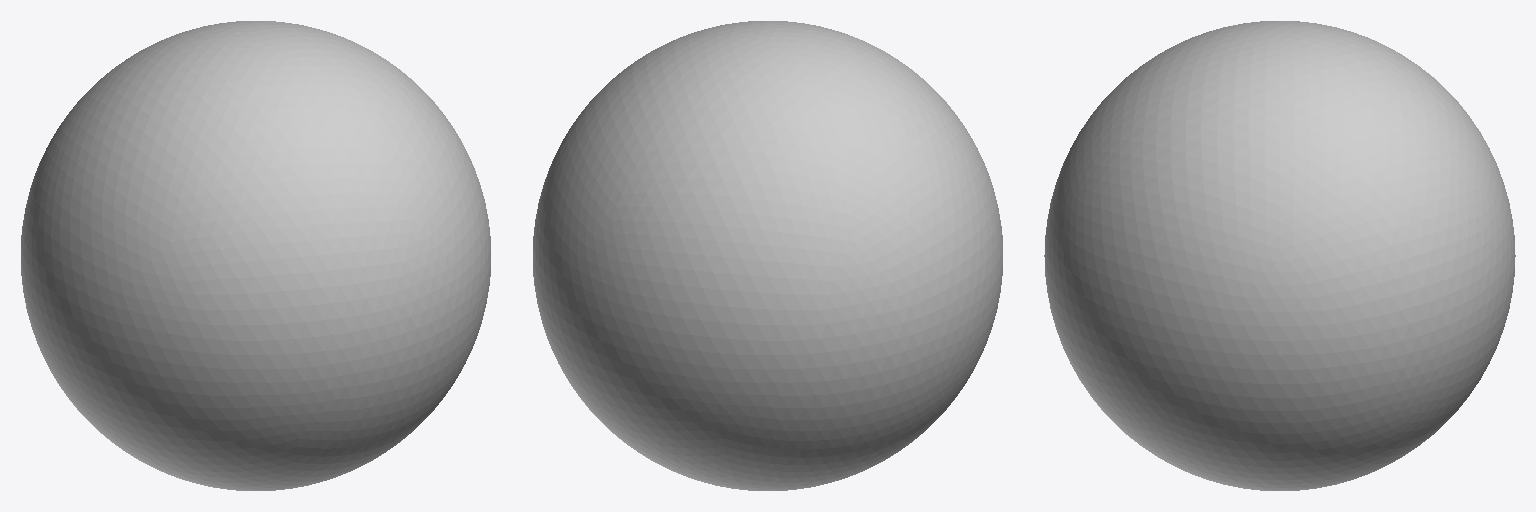
The model's file is ico.obj.
3 views of the same model, side by side, from view 1: azimuth 30°, elevation 25°; view 2: azimuth 150°, elevation 25°; view 3: azimuth 270°, elevation 25° (orthographic).
Visible parts, largest first — view 1: Icosphere; view 2: Icosphere; view 3: Icosphere.
Boxes of the visible parts, <box> form: Icosphere: <box>21,21,490,490</box>; Icosphere: <box>533,21,1002,490</box>; Icosphere: <box>1044,21,1515,490</box>.
Bounding box in the file's own units: 10.42 × 10.42 × 10.42.